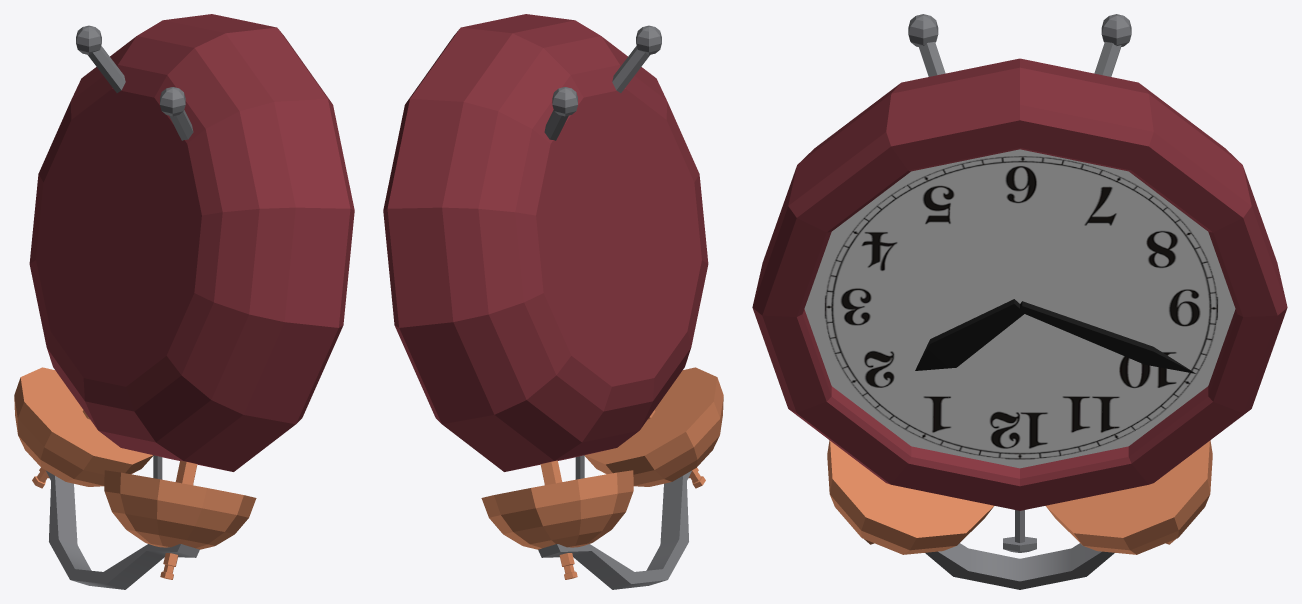
File: clock.fbx
The picture shows the model from 3 angles, left to right: view 1: azimuth 30°, elevation 25°; view 2: azimuth 150°, elevation 25°; view 3: azimuth 270°, elevation 25°; orthographic projection. The views are drawn at different scales.
Parts seen in each view (by area): view 1: pCylinder9; view 2: pCylinder9; view 3: pCylinder9.
Boxes of the visible parts, box(x1,y1,x2,y2) form: pCylinder9: box(14, 14, 354, 589); pCylinder9: box(383, 14, 723, 589); pCylinder9: box(752, 14, 1287, 589).
Size of the model in its own units: 3.05 by 7.03 by 5.69.
Materials: 1 (1 with a texture image).
